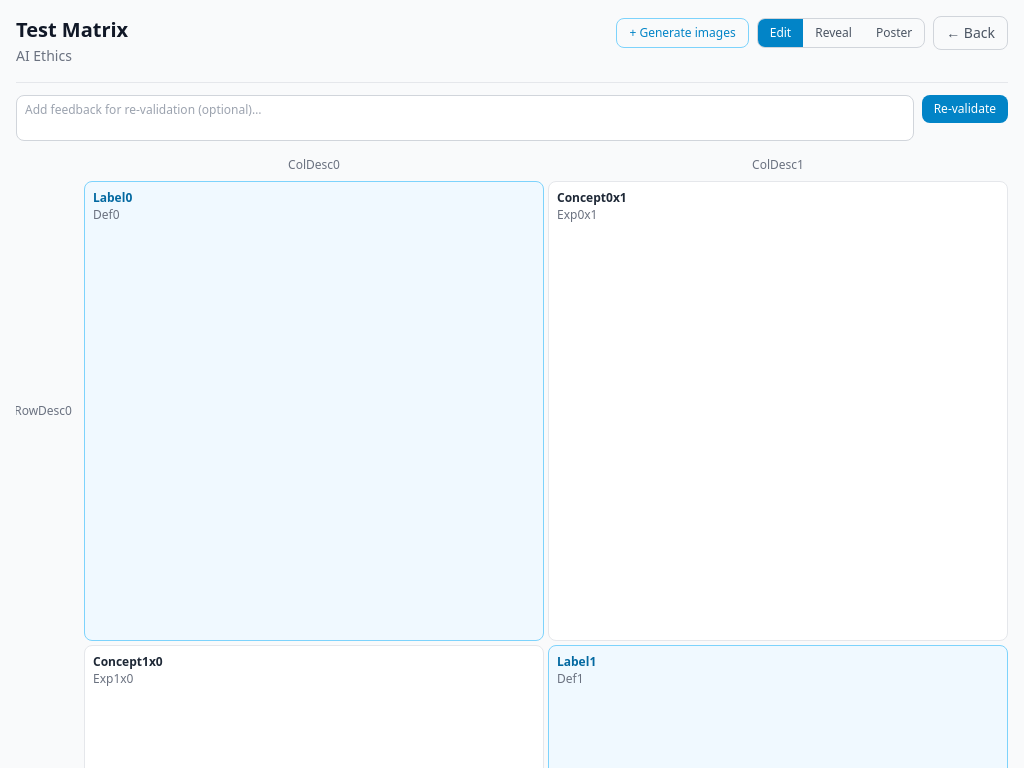
Scenario: MatrixView — Re-validate panel › shows error when revalidateMatrix rejects
Click the button "Re-validate".
click(965, 109)  # box x1=922 y1=95 x2=1008 y2=123
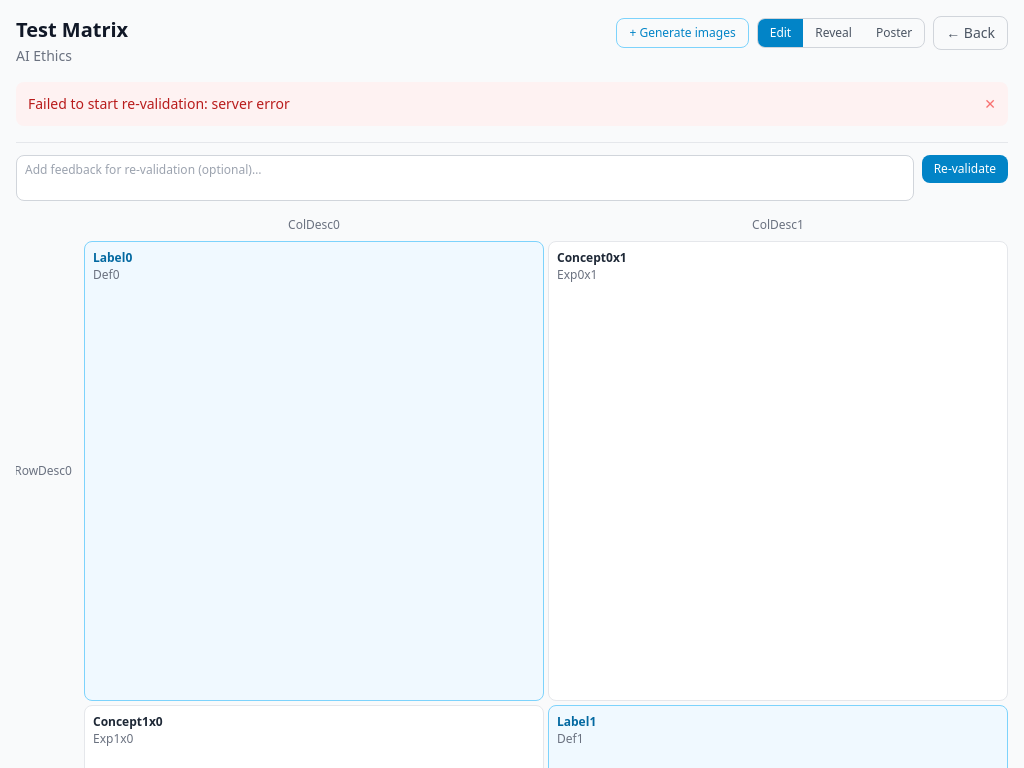
Result: the text "Failed to start re-validation: server error" is shown at x1=28 y1=94 x2=290 y2=113
